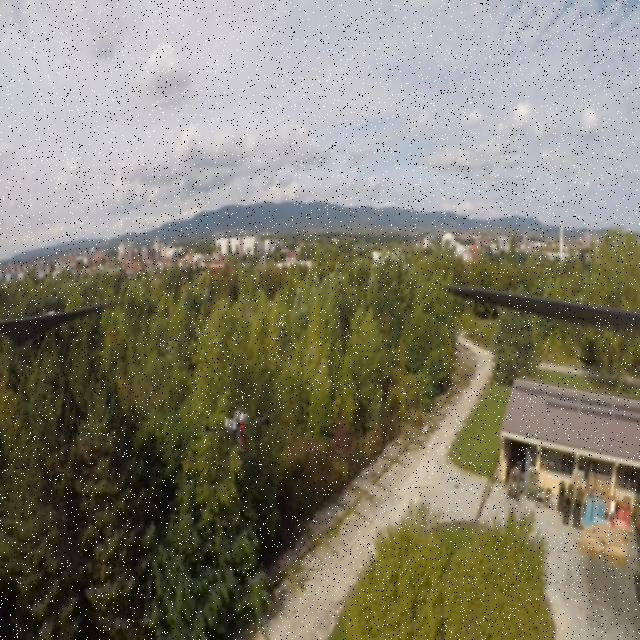UAV: (202, 398, 274, 474)
